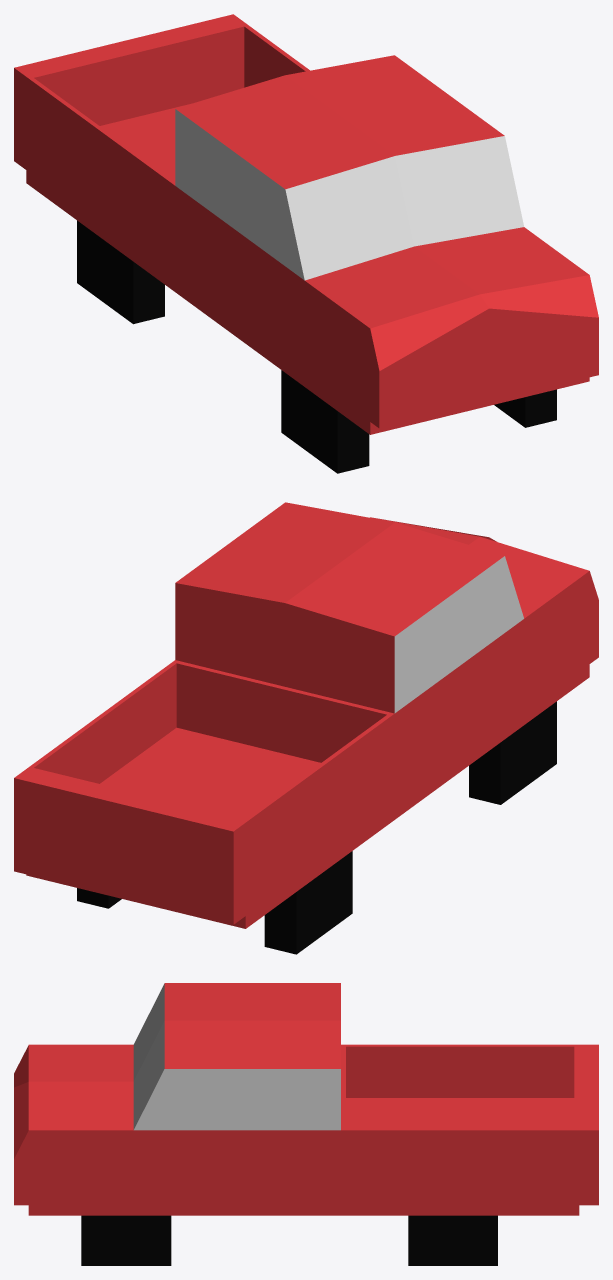
File: Pickup.fbx
3 renders of one model, top to bottom at view 1: azimuth 30°, elevation 25°; view 2: azimuth 150°, elevation 25°; view 3: azimuth 270°, elevation 25°, orthographic. The views are drawn at different scales.
Visible parts, largest first — view 1: Truck; view 2: Truck; view 3: Truck.
Boxes of the visible parts, bbox=[...] form: Truck: bbox=[14, 14, 598, 473]; Truck: bbox=[14, 502, 598, 954]; Truck: bbox=[14, 983, 598, 1265].
Size of the model in its own units: 1.96 by 2.15 by 5.64.
